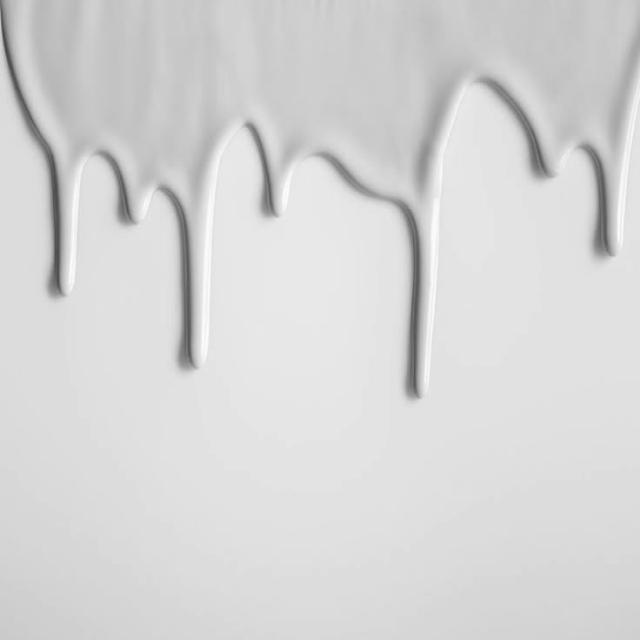paint drips: (2, 9, 639, 413)
